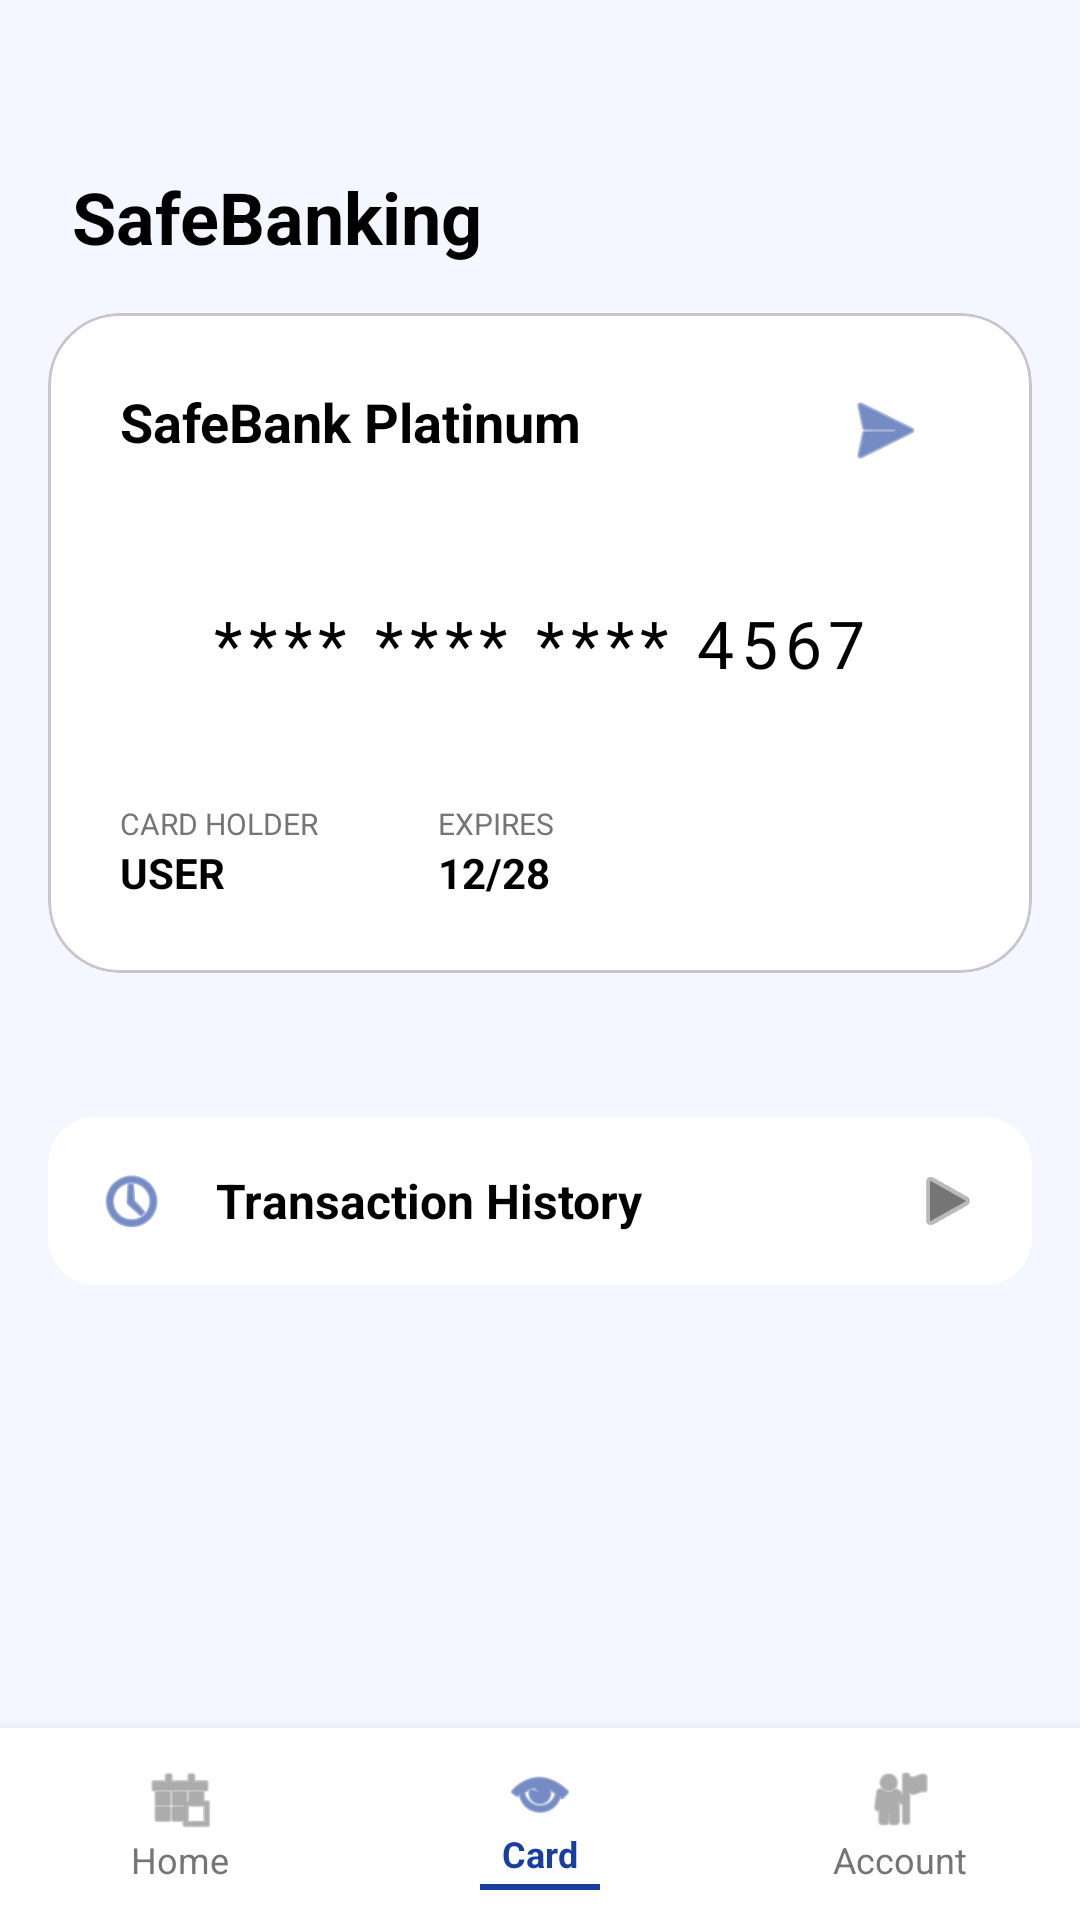

Icons on this 1080*1920 Android screen, each with its box as bbox=[x1, y1, x2, y2]:
play: bbox=[926, 1177, 970, 1225]
recent history: bbox=[106, 1175, 158, 1227]
send: bbox=[857, 402, 915, 459]
today: bbox=[151, 1773, 210, 1827]
view: bbox=[511, 1776, 569, 1813]
